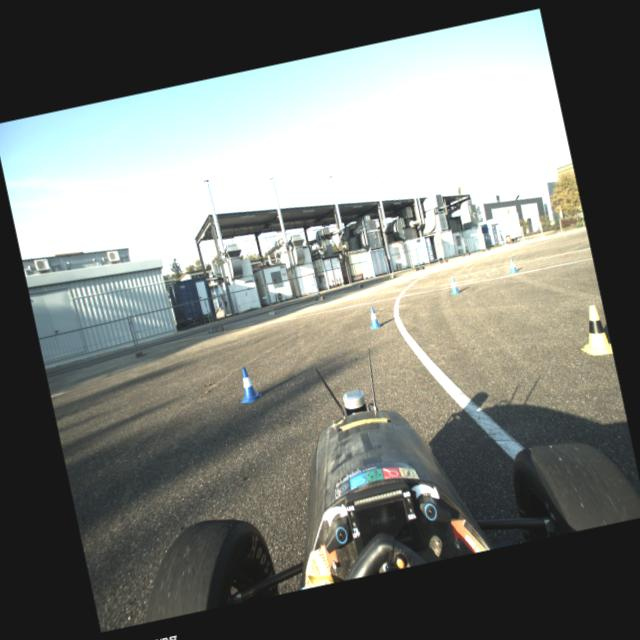blue_cone: (234, 364, 262, 404), (366, 306, 381, 329), (447, 276, 460, 294), (507, 258, 518, 274)
yellow_cone: (572, 302, 612, 358)
